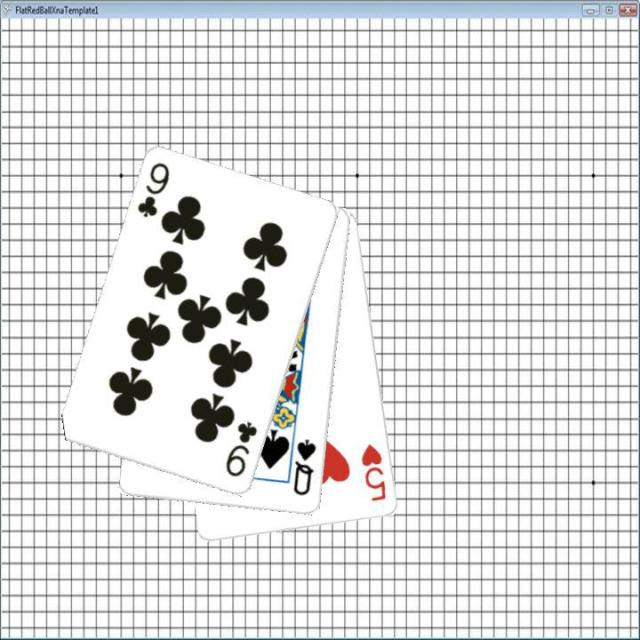5H: (358, 440, 388, 504)
9C: (222, 417, 260, 479), (134, 159, 172, 221)
QS: (290, 436, 318, 498)
